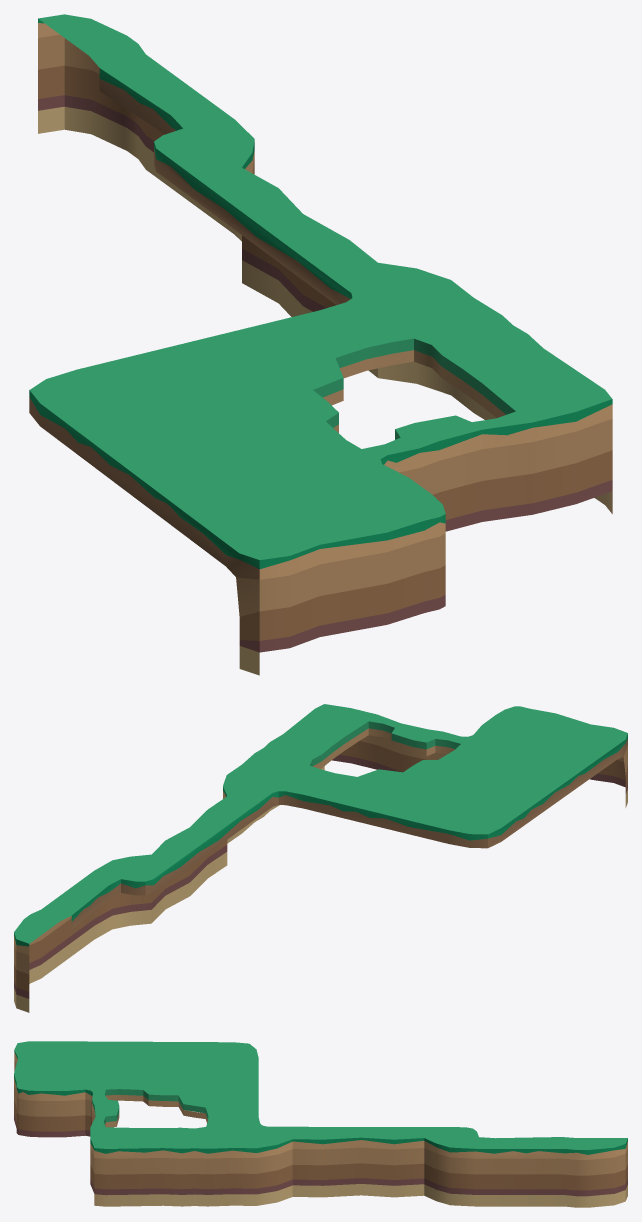
Rendered from MainLand2.fbx.
The picture shows the model from 3 angles, top to bottom: view 1: azimuth 30°, elevation 25°; view 2: azimuth 150°, elevation 25°; view 3: azimuth 270°, elevation 25°; orthographic projection. The views are drawn at different scales.
Visible parts, largest first — view 1: Plane.096; view 2: Plane.096; view 3: Plane.096.
Boxes of the visible parts, x1,y1,x2,y2 form: Plane.096: [29, 14, 612, 675]; Plane.096: [14, 704, 627, 1012]; Plane.096: [14, 1041, 627, 1207].
Size of the model in its own units: 2023 by 500 by 4822.
